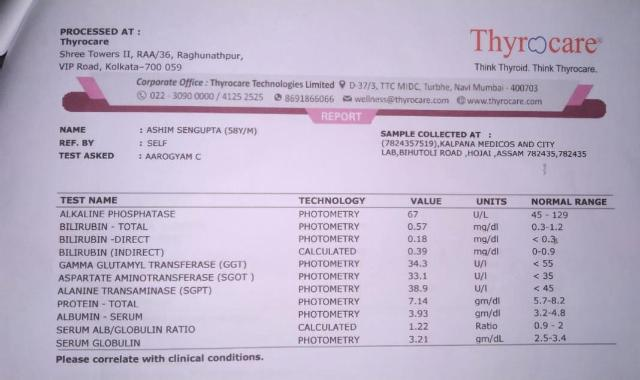Name: (144, 121, 263, 137)
Ref_By: (145, 137, 170, 149)
Reference_Range: (528, 209, 582, 345)
Technology: (295, 208, 367, 349)
Test_Asked: (141, 148, 211, 163)
Test_Name: (53, 205, 264, 352)
Unit: (469, 208, 513, 345)
Value: (401, 207, 439, 345)
